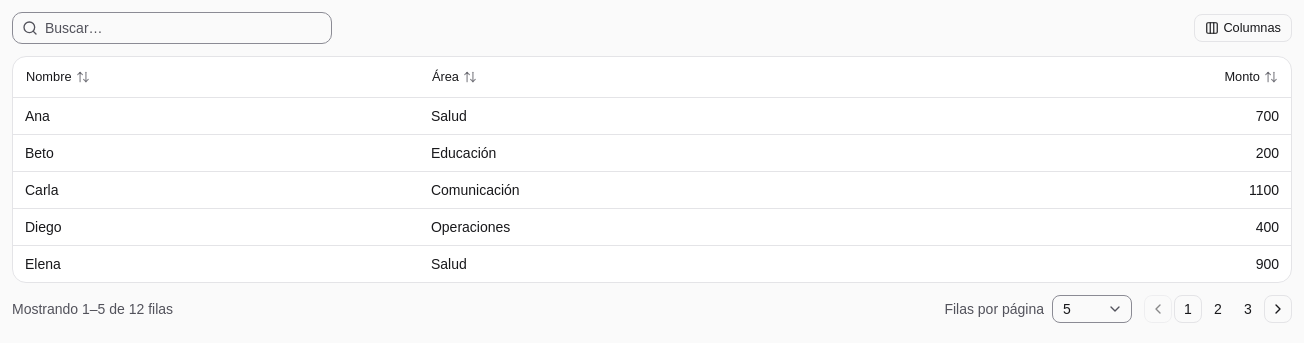
DataTable › respeta la paginación resuelta por el servidor
Expected: the text "Mostrando 1–5 de 12 filas" is shown, [12,299,173,319]
Expected: the button named "Ir a la página 3" is shown, [1234,295,1262,323]
Click the button named "Ir a la página siguiente".
click(1278, 308)  # box [1264,294,1292,322]
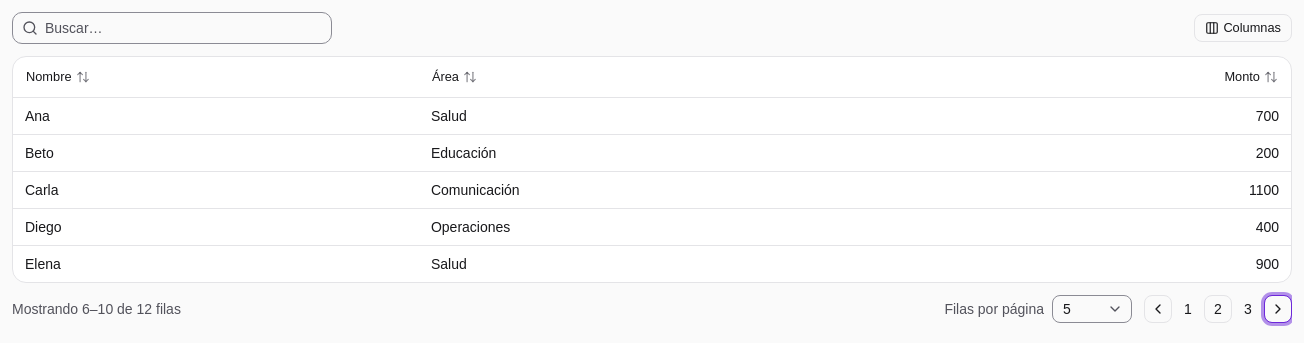
Expected: the text "Mostrando 6–10 de 12 filas" is shown, [12,299,181,319]
